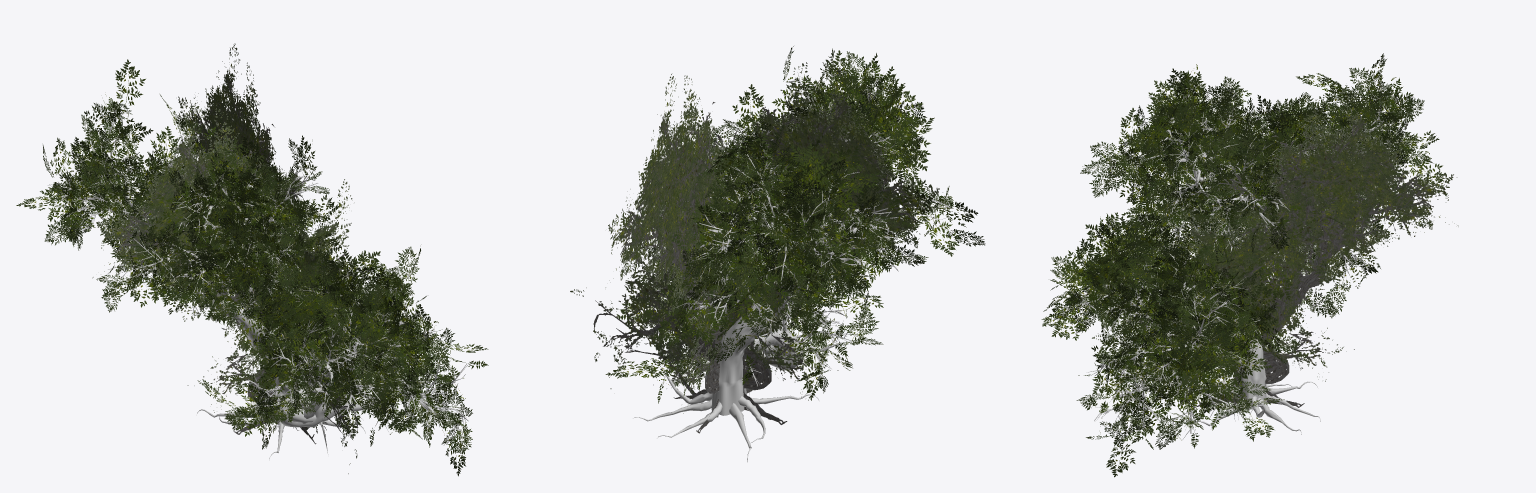
The model's file is Tree_A2.fbx.
3 renders of one model, left to right at view 1: azimuth 30°, elevation 25°; view 2: azimuth 150°, elevation 25°; view 3: azimuth 270°, elevation 25°, orthographic. The views are drawn at different scales.
Parts seen in each view (by area): view 1: Tree_A2_LOD0, Tree_A2_Billboard; view 2: Tree_A2_LOD0, Tree_A2_Billboard; view 3: Tree_A2_LOD0, Tree_A2_Billboard.
Part boxes in pixels (bbox=[...]): Tree_A2_LOD0: bbox=[16, 59, 488, 476]; Tree_A2_Billboard: bbox=[92, 43, 429, 473]; Tree_A2_LOD0: bbox=[605, 46, 985, 462]; Tree_A2_Billboard: bbox=[570, 56, 944, 433]; Tree_A2_LOD0: bbox=[1041, 53, 1443, 477]; Tree_A2_Billboard: bbox=[1092, 85, 1458, 412].
Size of what is drawn, in the model's own units: 685 by 578 by 693.
